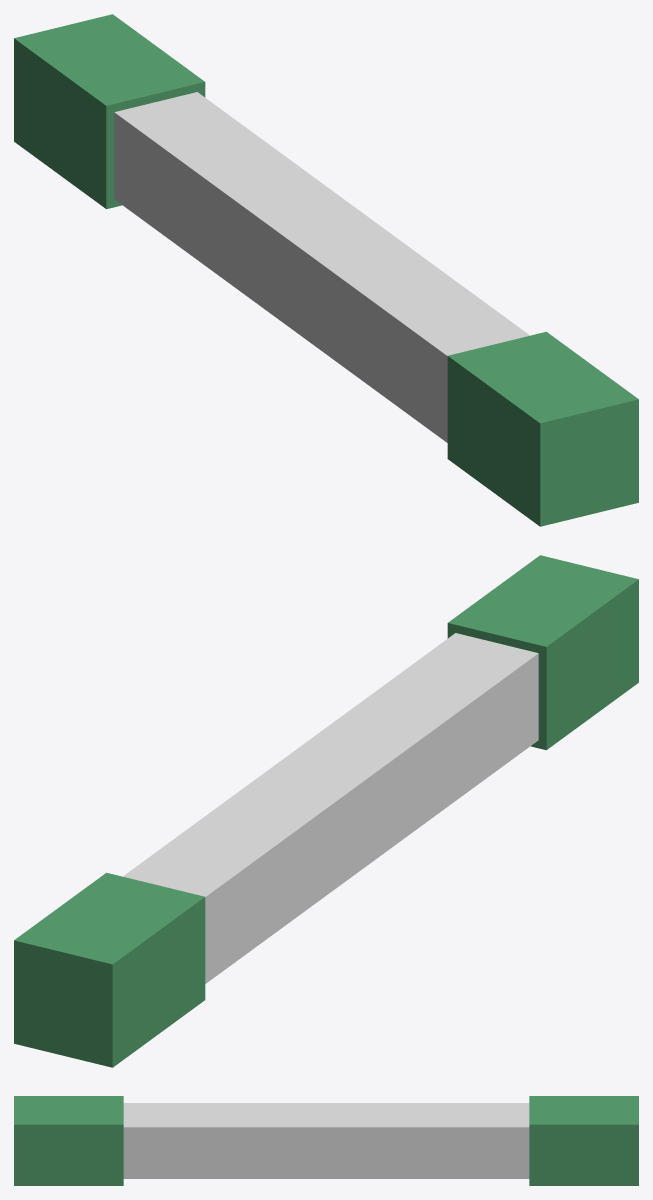
The model's file is 2fuseShikakuGreen.fbx.
3 renders of one model, top to bottom at view 1: azimuth 30°, elevation 25°; view 2: azimuth 150°, elevation 25°; view 3: azimuth 270°, elevation 25°, orthographic. The views are drawn at different scales.
Visible parts, largest first — view 1: 立方体; view 2: 立方体; view 3: 立方体.
Part boxes in pixels (x1=…): 立方体: x1=14, y1=14, x2=638, y2=526; 立方体: x1=14, y1=555, x2=638, y2=1067; 立方体: x1=14, y1=1096, x2=638, y2=1185.
Size of the model in its own units: 238 by 238 by 2193.
